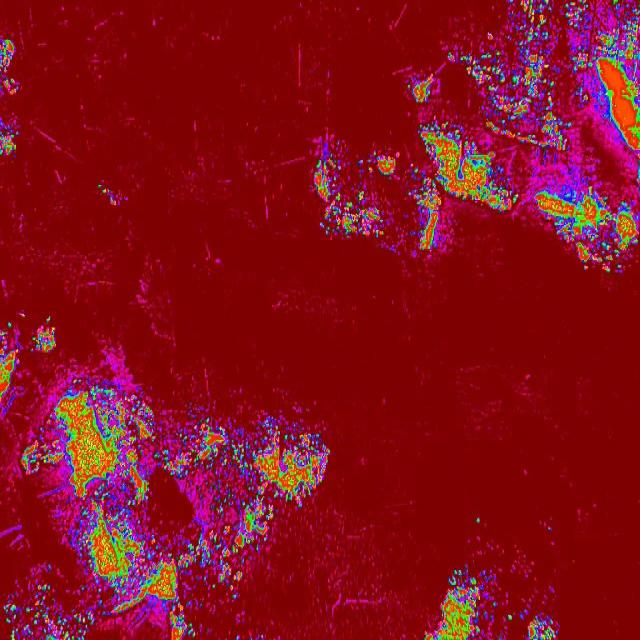fire: (0, 374, 269, 640), (408, 0, 640, 272), (312, 142, 407, 247), (425, 572, 561, 640), (268, 426, 332, 509), (0, 316, 59, 376), (0, 37, 18, 168)
